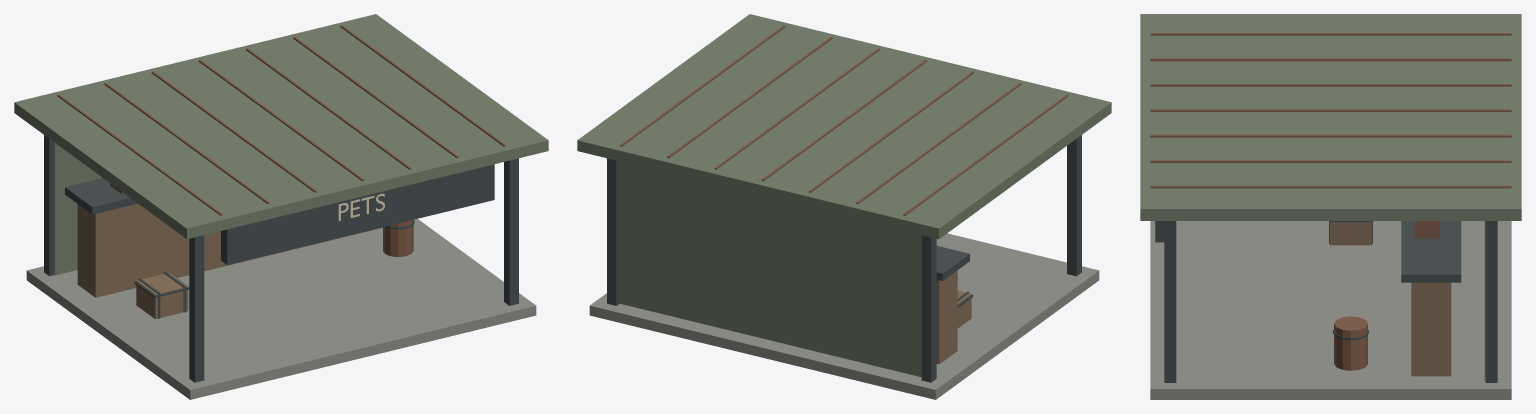
The model's file is Refuge_Boutique_03_PETS.fbx.
The picture shows the model from 3 angles, left to right: view 1: azimuth 30°, elevation 25°; view 2: azimuth 150°, elevation 25°; view 3: azimuth 270°, elevation 25°; orthographic projection. The views are drawn at different scales.
Parts seen in each view (by area): view 1: Refuge_Boutique_03_PETS_canvas, Refuge_Boutique_03_PETS_concrete, Refuge_Boutique_03_PETS_iron, Refuge_Boutique_03_PETS_wood, Refuge_Boutique_03_PETS_rust; view 2: Refuge_Boutique_03_PETS_canvas, Refuge_Boutique_03_PETS_concrete, Refuge_Boutique_03_PETS_iron, Refuge_Boutique_03_PETS_rust, Refuge_Boutique_03_PETS_wood; view 3: Refuge_Boutique_03_PETS_canvas, Refuge_Boutique_03_PETS_concrete, Refuge_Boutique_03_PETS_rust, Refuge_Boutique_03_PETS_iron, Refuge_Boutique_03_PETS_wood.
Part boxes in pixels (x1,y1,x2,y2): Refuge_Boutique_03_PETS_canvas: (14,14,548,275); Refuge_Boutique_03_PETS_concrete: (26,219,536,399); Refuge_Boutique_03_PETS_iron: (44,135,518,382); Refuge_Boutique_03_PETS_wood: (77,203,382,319); Refuge_Boutique_03_PETS_rust: (57,25,505,257); Refuge_Boutique_03_PETS_canvas: (577,14,1111,377); Refuge_Boutique_03_PETS_concrete: (589,233,1099,399); Refuge_Boutique_03_PETS_iron: (607,135,1081,382); Refuge_Boutique_03_PETS_rust: (620,25,1068,215); Refuge_Boutique_03_PETS_wood: (936,270,971,364); Refuge_Boutique_03_PETS_canvas: (1140,14,1521,380); Refuge_Boutique_03_PETS_concrete: (1150,221,1511,399); Refuge_Boutique_03_PETS_rust: (1150,33,1511,370); Refuge_Boutique_03_PETS_iron: (1155,221,1497,382); Refuge_Boutique_03_PETS_wood: (1330,222,1451,376).
Bounding box in the file's own units: 23 × 10.88 × 19.
